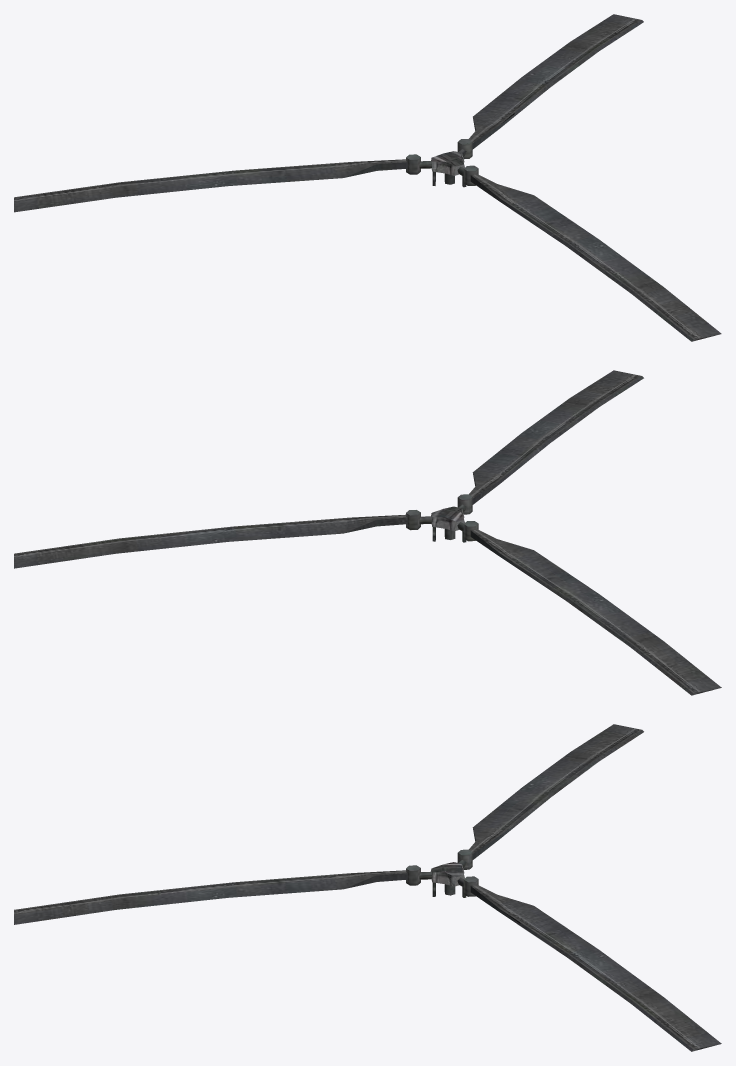
File: heli_ch47_rotor_f.glb
3 renders of one model, top to bottom at view 1: azimuth 30°, elevation 25°; view 2: azimuth 150°, elevation 25°; view 3: azimuth 270°, elevation 25°, orthographic.
Parts seen in each view (by area): view 1: heli_ch47_rotor_f; view 2: heli_ch47_rotor_f; view 3: heli_ch47_rotor_f.
Boxes of the visible parts, x1,y1,x2,y2 form: heli_ch47_rotor_f: (14, 14, 721, 341); heli_ch47_rotor_f: (14, 370, 721, 695); heli_ch47_rotor_f: (14, 724, 721, 1051).
Bounding box in the file's own units: 15.44 × 0.7127 × 14.15.
Materials: 1 (1 with a texture image).
